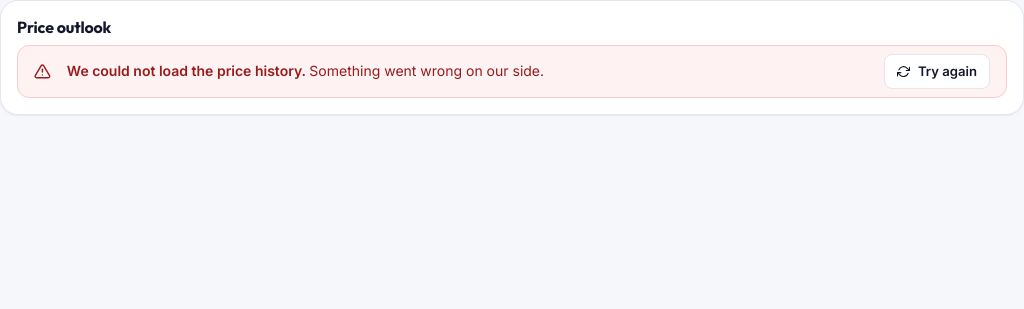
PricePrediction › offers a retry when the history cannot be loaded
Expected: the message shows "We could not load the price history.", top-left (67, 62), bottom-right (306, 79)
Click the button "Try again" at (937, 72), box top-left (884, 54), bottom-right (990, 89)
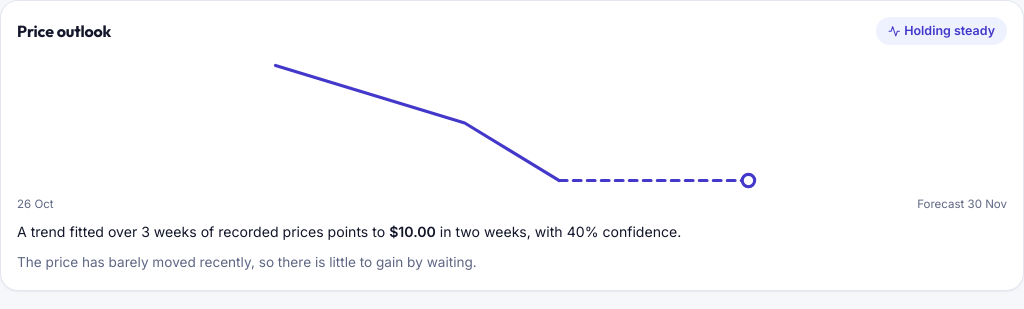
Expected: the text "Holding steady" is shown, top-left (876, 17), bottom-right (1007, 45)
